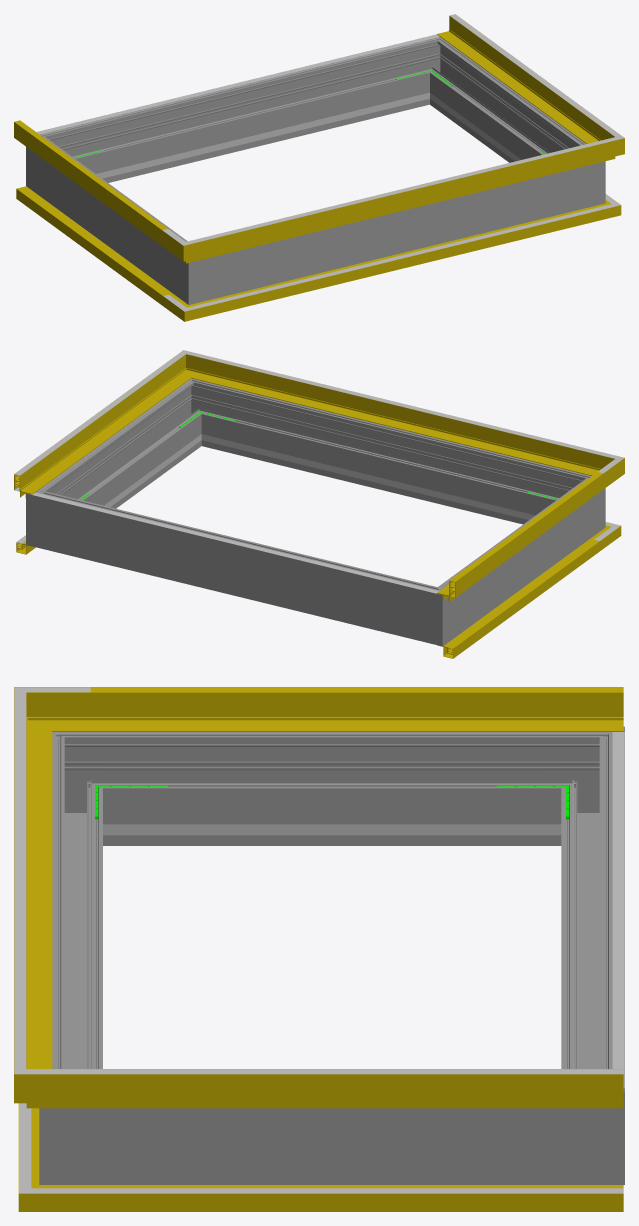
The picture shows the model from 3 angles, top to bottom: view 1: azimuth 30°, elevation 25°; view 2: azimuth 150°, elevation 25°; view 3: azimuth 270°, elevation 25°; orthographic projection. The views are drawn at different scales.
Visible parts, largest first — view 1: 3DGeom-276, 3DGeom-298, 3DGeom-297, 3DGeom-56, 3DGeom-268, 3DGeom-11, 3DGeom-58, 3DGeom-50, 3DGeom-270, 3DGeom-6, 3DGeom-244, 3DGeom-284 (+13 smaller); view 2: 3DGeom-298, 3DGeom-276, 3DGeom-56, 3DGeom-297, 3DGeom-268, 3DGeom-58, 3DGeom-278, 3DGeom-50, 3DGeom-6, 3DGeom-284, 3DGeom-239, 3DGeom-290 (+9 smaller); view 3: 3DGeom-268, 3DGeom-297, 3DGeom-50, 3DGeom-58, 3DGeom-276, 3DGeom-298, 3DGeom-16, 3DGeom-56, 3DGeom-284, 3DGeom-290, 3DGeom-278, 3DGeom-270 (+15 smaller).
Boxes of the visible parts, left/top/right/bottom form: 3DGeom-276: left=66, top=44, right=423, bottom=182; 3DGeom-298: left=225, top=170, right=568, bottom=295; 3DGeom-297: left=433, top=50, right=577, bottom=162; 3DGeom-56: left=216, top=147, right=588, bottom=255; 3DGeom-268: left=47, top=147, right=178, bottom=288; 3DGeom-11: left=216, top=210, right=584, bottom=312; 3DGeom-58: left=437, top=15, right=597, bottom=142; 3DGeom-50: left=14, top=122, right=162, bottom=245; 3DGeom-270: left=167, top=235, right=225, bottom=304; 3DGeom-6: left=16, top=186, right=172, bottom=305; 3DGeom-244: left=109, top=101, right=394, bottom=176; 3DGeom-284: left=409, top=37, right=457, bottom=106; 3DGeom-298: left=207, top=386, right=565, bottom=524; 3DGeom-276: left=62, top=497, right=412, bottom=637; 3DGeom-56: left=209, top=361, right=584, bottom=472; 3DGeom-297: left=53, top=391, right=197, bottom=508; 3DGeom-268: left=452, top=488, right=584, bottom=630; 3DGeom-58: left=14, top=367, right=180, bottom=497; 3DGeom-278: left=406, top=577, right=463, bottom=646; 3DGeom-50: left=437, top=473, right=603, bottom=601; 3DGeom-6: left=437, top=538, right=599, bottom=658; 3DGeom-284: left=26, top=479, right=69, bottom=553; 3DGeom-239: left=237, top=443, right=521, bottom=517; 3DGeom-290: left=173, top=378, right=221, bottom=448; 3DGeom-268: left=115, top=732, right=548, bottom=845; 3DGeom-297: left=115, top=1108, right=548, bottom=1184; 3DGeom-50: left=90, top=687, right=623, bottom=731; 3DGeom-58: left=90, top=1069, right=623, bottom=1108; 3DGeom-276: left=561, top=759, right=624, bottom=1068; 3DGeom-298: left=52, top=759, right=102, bottom=1068; 3DGeom-16: left=95, top=1185, right=623, bottom=1211; 3DGeom-56: left=14, top=719, right=52, bottom=1068; 3DGeom-284: left=548, top=1060, right=624, bottom=1184; 3DGeom-290: left=39, top=1060, right=115, bottom=1184; 3DGeom-278: left=548, top=726, right=624, bottom=845; 3DGeom-270: left=52, top=732, right=115, bottom=845.
Bounding box in the file's own units: 1.83 × 0.307 × 1.22.
